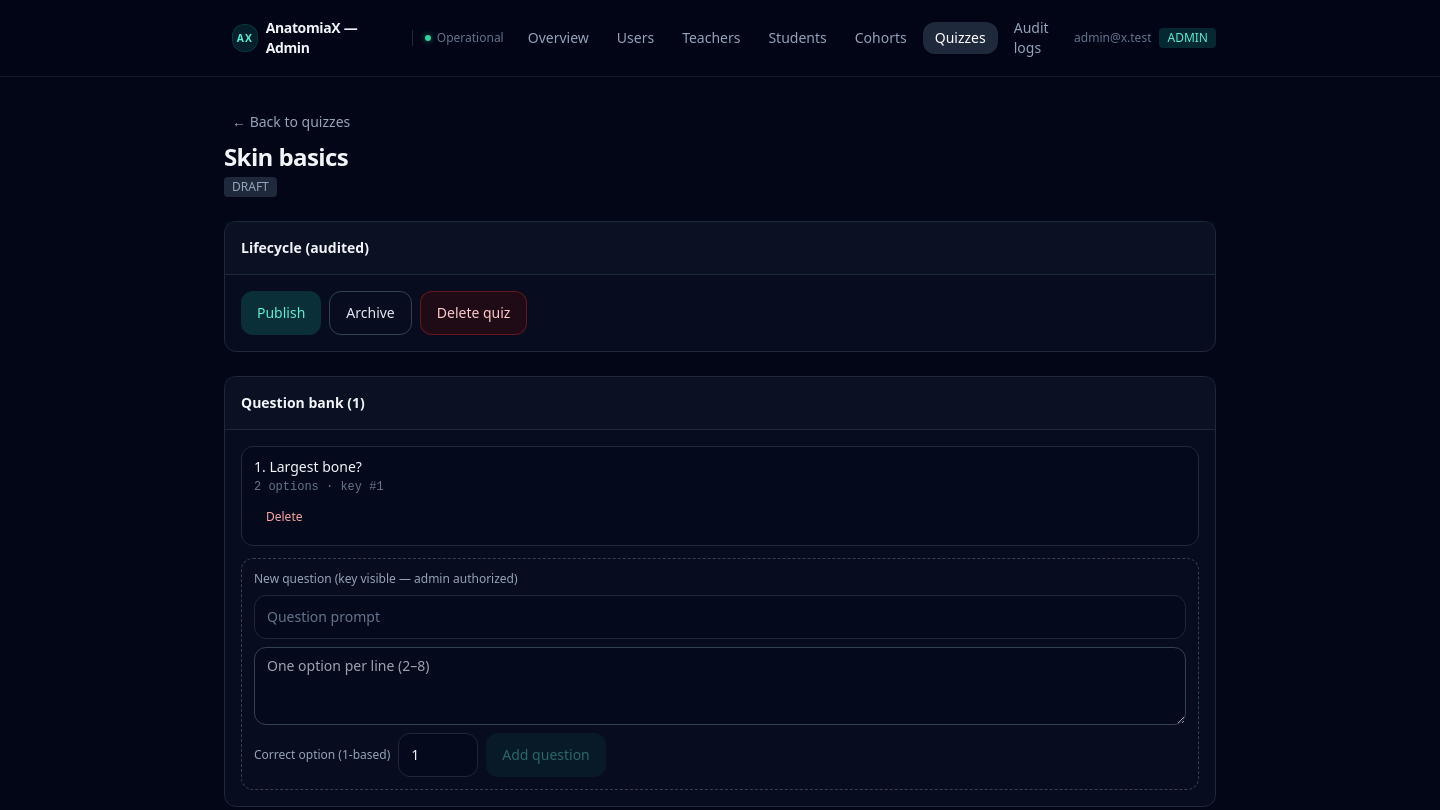
Test: admin quizzes › publishes from detail and shows the key (admin authorized)
The image size is (1440, 810).
Expected: the heading "Skin basics" is shown, [224, 140, 348, 173]
Expected: the text "2 options · key #1" is shown, [254, 480, 384, 494]
What coordinates should you click on to do the following:
click the button with test id "admin-quiz-publish"
I would click on:
 (281, 313)
Its box is [241, 291, 321, 335].
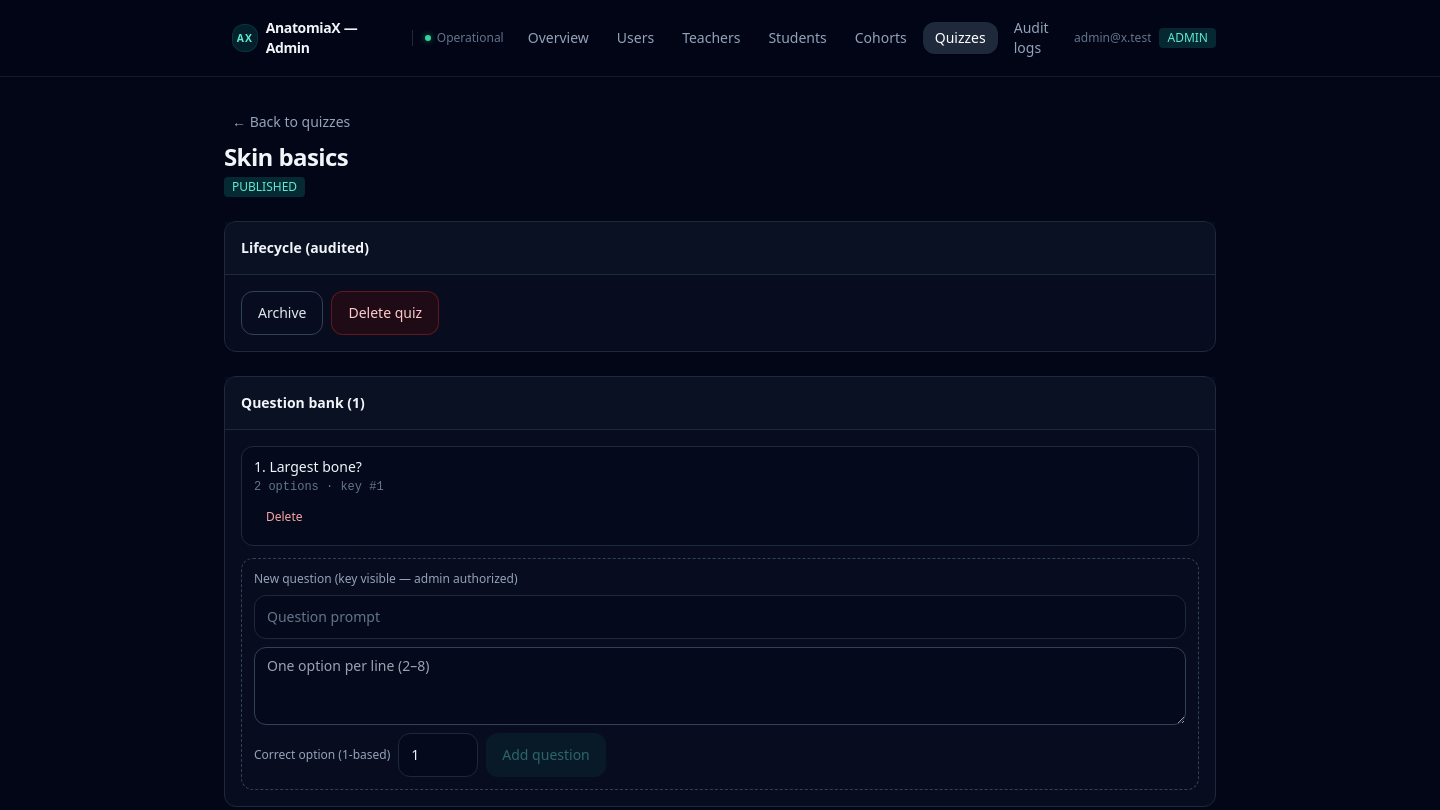
Expected: the text with test id "admin-quiz-status" reads "PUBLISHED", [232, 178, 297, 195]
